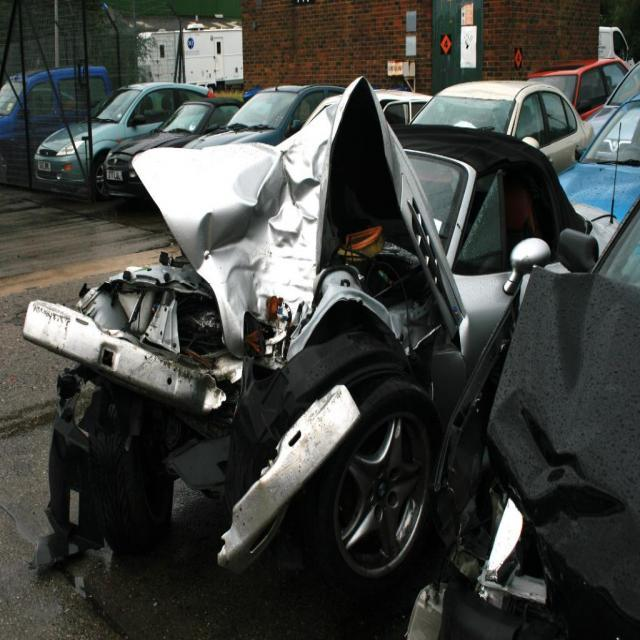truck: (0, 57, 639, 639)
